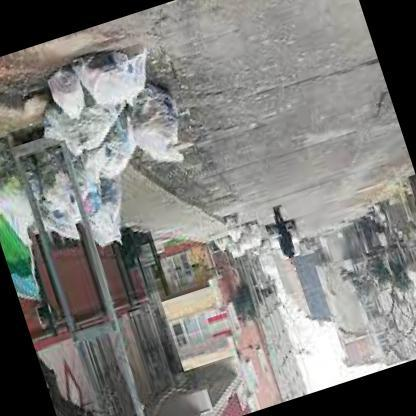Garbage: (45, 88, 133, 169), (124, 76, 200, 168), (76, 152, 144, 244), (23, 146, 86, 240), (75, 43, 160, 107), (84, 113, 150, 182), (0, 146, 42, 239), (45, 68, 97, 134), (224, 207, 242, 236)
